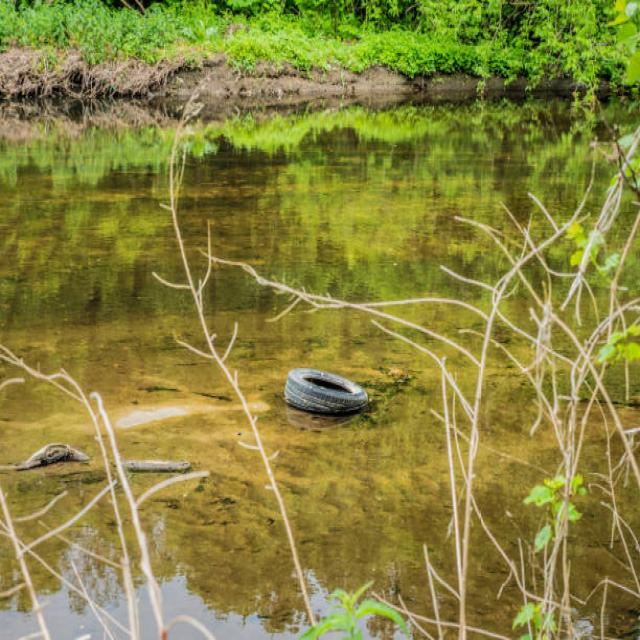tire: (284, 367, 368, 414)
